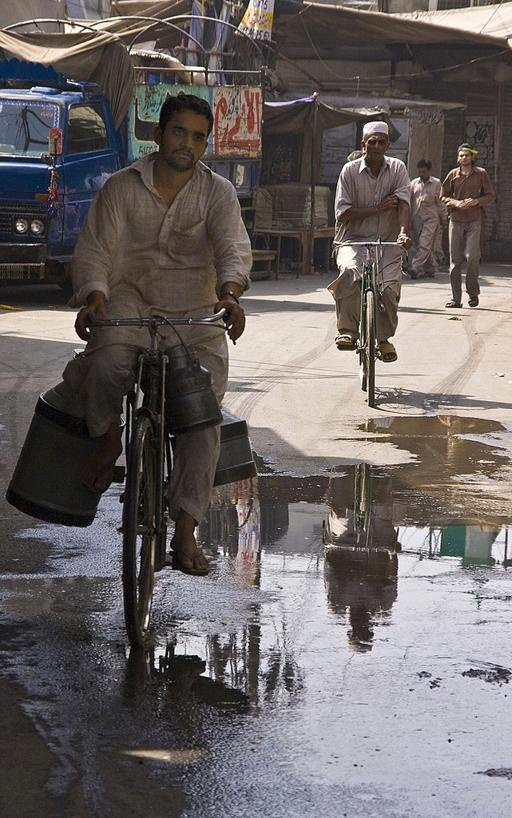non-vehicle: (79, 304, 235, 652), (328, 235, 411, 408), (320, 460, 400, 562)
